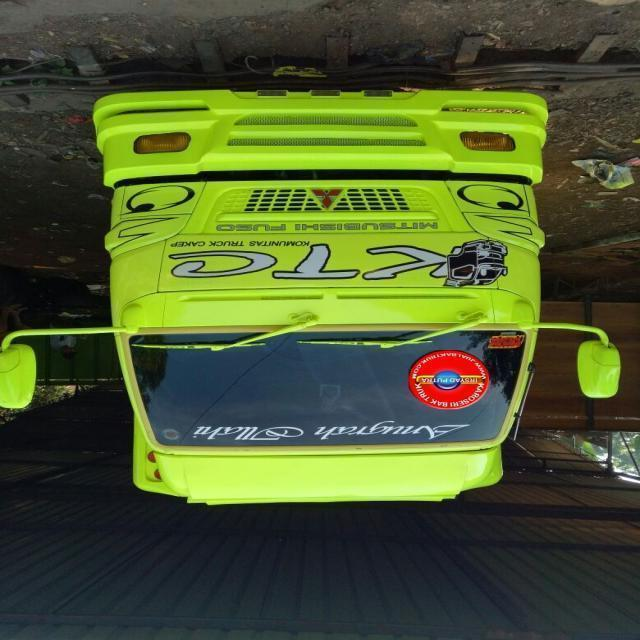truck: (1, 88, 624, 504)
